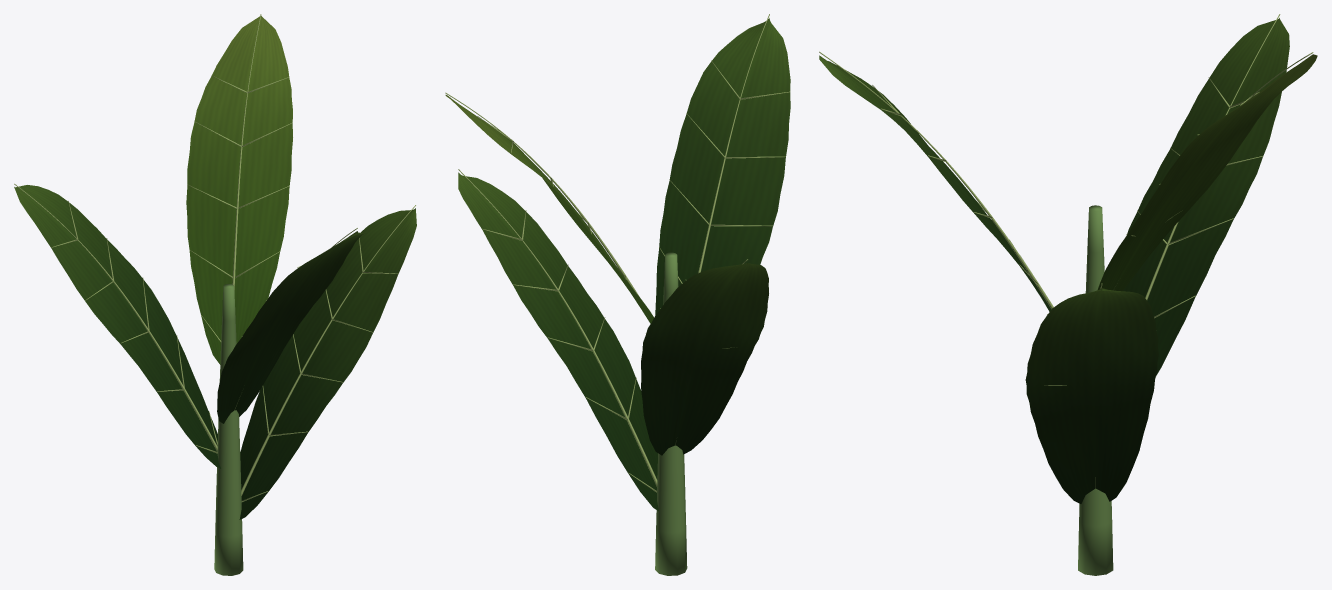
The model's file is tulip-03.glb.
3 renders of one model, left to right at view 1: azimuth 30°, elevation 25°; view 2: azimuth 150°, elevation 25°; view 3: azimuth 270°, elevation 25°, orthographic. The views are drawn at different scales.
Visible parts, largest first — view 1: tulip_stage_03_leaf_veins.004, tulip_stage_03_young_leaf.004, tulip_stage_03_stem_fibres.004, tulip_stage_03_raised_midveins.004; view 2: tulip_stage_03_leaf_veins.004, tulip_stage_03_stem_fibres.004, tulip_stage_03_raised_midveins.004, tulip_stage_03_young_leaf.004; view 3: tulip_stage_03_leaf_veins.004, tulip_stage_03_young_leaf.004, tulip_stage_03_stem_fibres.004, tulip_stage_03_raised_midveins.004.
Part boxes in pixels (left/top/right/bottom): tulip_stage_03_leaf_veins.004: left=14, top=185, right=416, bottom=519; tulip_stage_03_young_leaf.004: left=186, top=16, right=292, bottom=364; tulip_stage_03_stem_fibres.004: left=214, top=284, right=243, bottom=575; tulip_stage_03_raised_midveins.004: left=14, top=14, right=415, bottom=501; tulip_stage_03_leaf_veins.004: left=458, top=18, right=790, bottom=511; tulip_stage_03_stem_fibres.004: left=655, top=252, right=687, bottom=575; tulip_stage_03_raised_midveins.004: left=445, top=14, right=789, bottom=492; tulip_stage_03_young_leaf.004: left=445, top=95, right=653, bottom=323; tulip_stage_03_leaf_veins.004: left=819, top=18, right=1289, bottom=503; tulip_stage_03_young_leaf.004: left=1097, top=54, right=1317, bottom=291; tulip_stage_03_stem_fibres.004: left=1078, top=205, right=1113, bottom=575; tulip_stage_03_raised_midveins.004: left=819, top=14, right=1313, bottom=488.
Size of the model in its own units: 0.106 by 0.1405 by 0.1078.
Materials: 4 (2 with a texture image).
